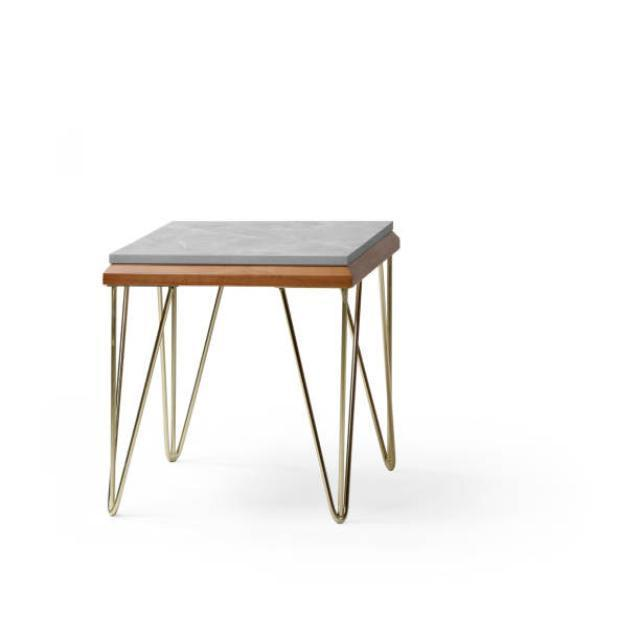table: (102, 219, 400, 524)
